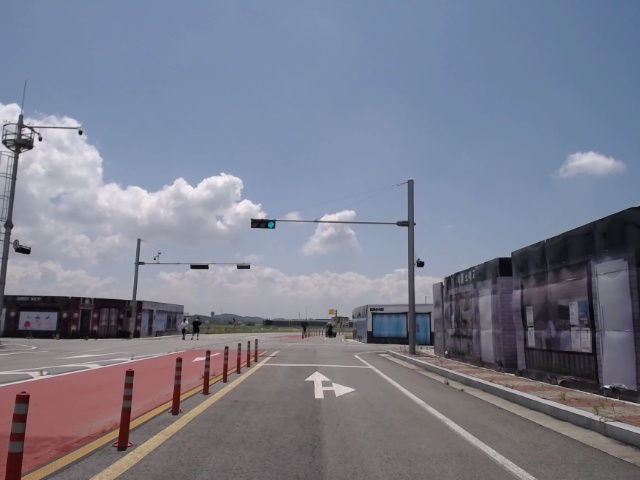green_3: (250, 219, 275, 228)
